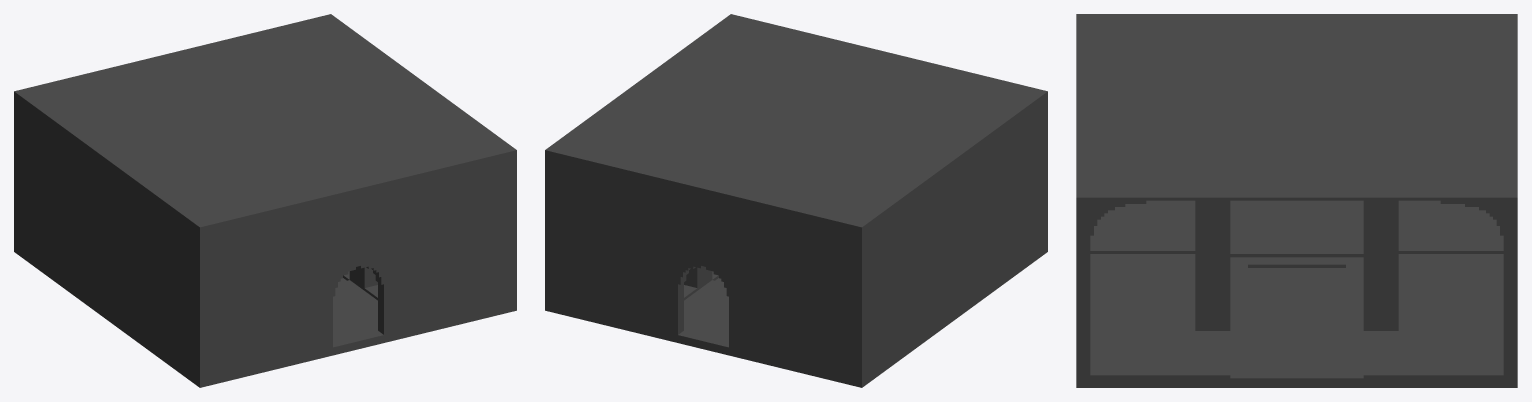
The model's file is SmallArea02side.obj.
The picture shows the model from 3 angles, left to right: view 1: azimuth 30°, elevation 25°; view 2: azimuth 150°, elevation 25°; view 3: azimuth 270°, elevation 25°; orthographic projection. The views are drawn at different scales.
Size of the model in its own units: 124 by 60 by 126.
Materials: 1 (1 with a texture image).
